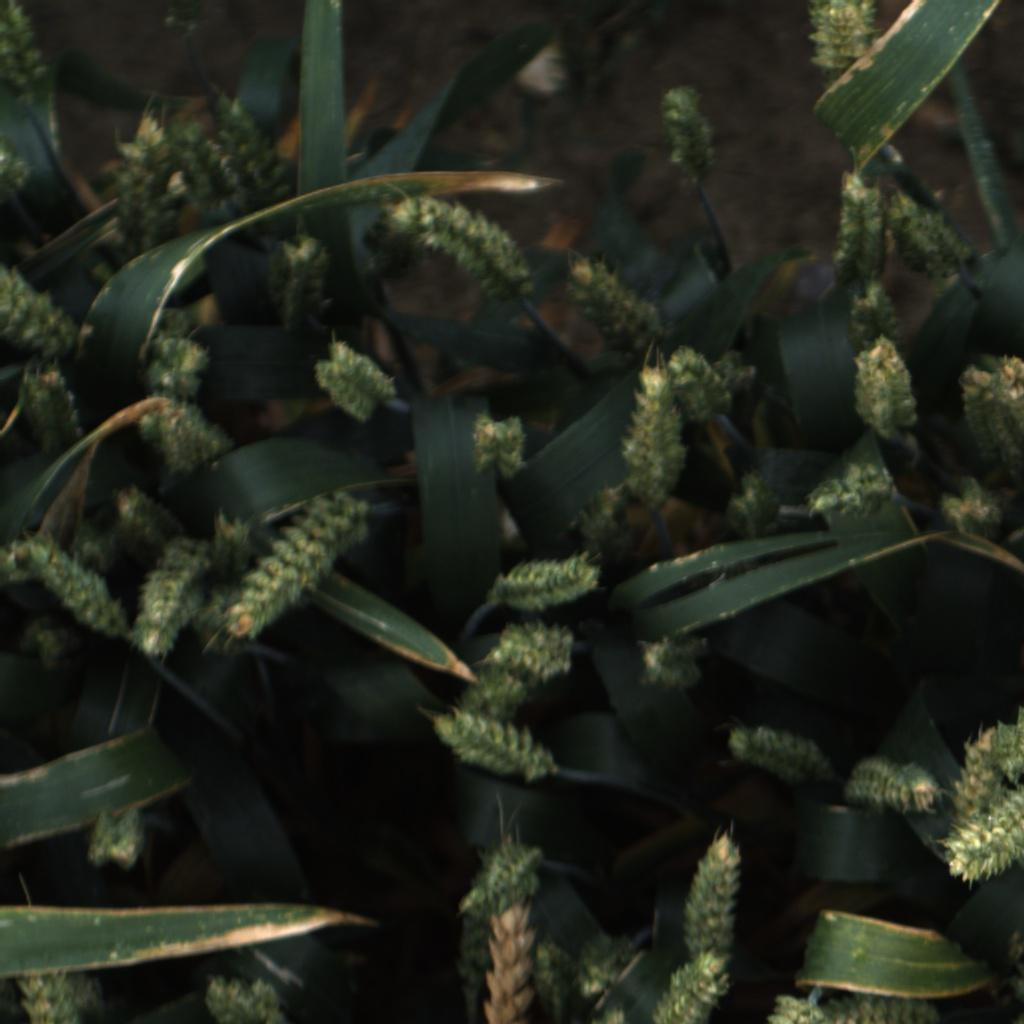0-0: (218, 488, 371, 643), (390, 187, 539, 301), (423, 700, 557, 794), (28, 536, 132, 647), (616, 361, 691, 507), (561, 244, 661, 352), (127, 534, 211, 659), (677, 827, 748, 973), (252, 228, 340, 332), (109, 115, 175, 253), (307, 337, 404, 428), (0, 260, 83, 361), (884, 191, 974, 280), (848, 336, 921, 445), (954, 365, 1024, 478), (475, 903, 539, 1024), (722, 720, 828, 793), (945, 794, 1024, 890), (477, 553, 607, 611), (169, 117, 240, 222), (660, 79, 724, 191), (136, 397, 233, 470), (834, 752, 944, 816), (799, 459, 907, 524), (825, 170, 885, 285), (216, 85, 284, 184), (943, 719, 1006, 825), (0, 0, 55, 112), (634, 621, 716, 696), (646, 951, 730, 1024), (668, 344, 737, 432), (484, 616, 575, 680), (454, 873, 497, 1007), (22, 368, 86, 453), (191, 587, 263, 661), (473, 835, 548, 906), (569, 487, 637, 565), (135, 333, 211, 402), (722, 464, 787, 543), (78, 808, 154, 875), (810, 1, 877, 76), (198, 969, 287, 1024), (933, 475, 1008, 540), (14, 960, 88, 1024), (465, 414, 535, 479), (574, 933, 640, 998), (837, 277, 901, 343), (451, 667, 529, 721), (109, 484, 176, 545), (531, 935, 589, 1003), (817, 992, 940, 1024), (203, 504, 257, 576), (986, 351, 1023, 441), (16, 613, 72, 670), (0, 532, 50, 588), (69, 519, 119, 573), (989, 707, 1024, 783), (0, 134, 38, 200), (765, 987, 831, 1024), (146, 301, 195, 349)
